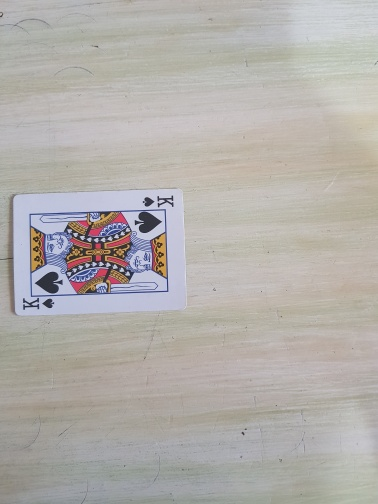king: (12, 188, 187, 317)
